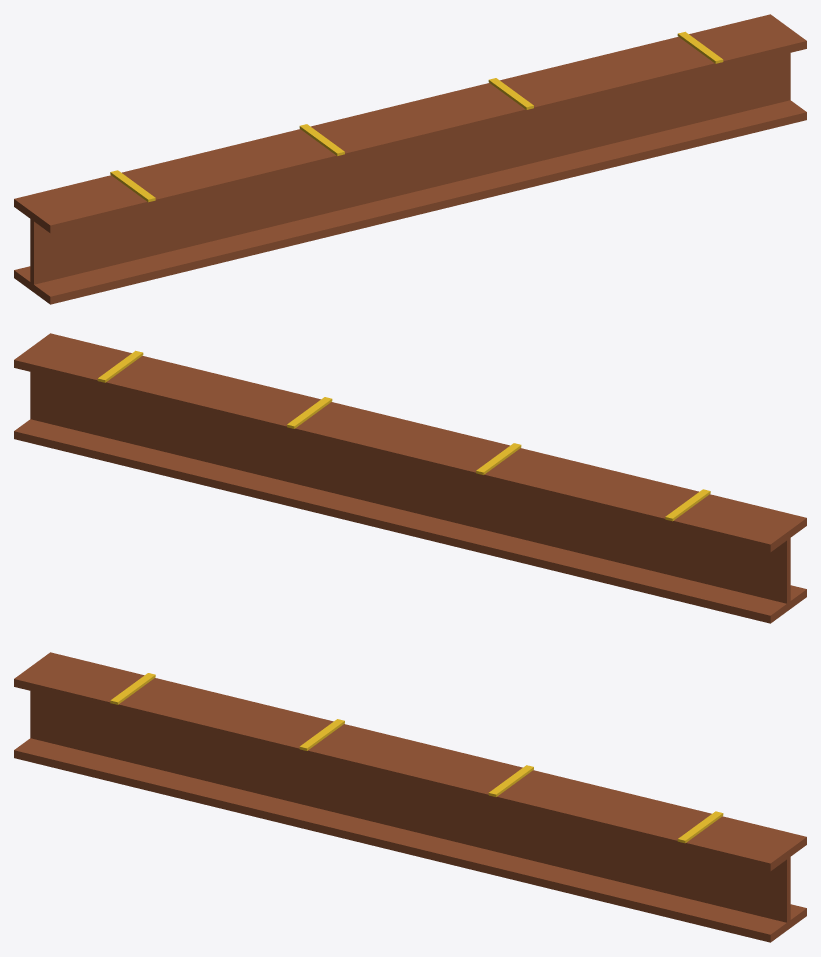
The model's file is p_beam.glb.
The picture shows the model from 3 angles, top to bottom: view 1: azimuth 30°, elevation 25°; view 2: azimuth 150°, elevation 25°; view 3: azimuth 330°, elevation 25°; orthographic projection.
Visible parts, largest first — view 1: beam; view 2: beam; view 3: beam.
Boxes of the visible parts, <box> form: beam: <box>14,14,806,304</box>; beam: <box>14,333,806,623</box>; beam: <box>14,652,806,942</box>.
Bounding box in the file's own units: 6 × 0.62 × 0.52.
